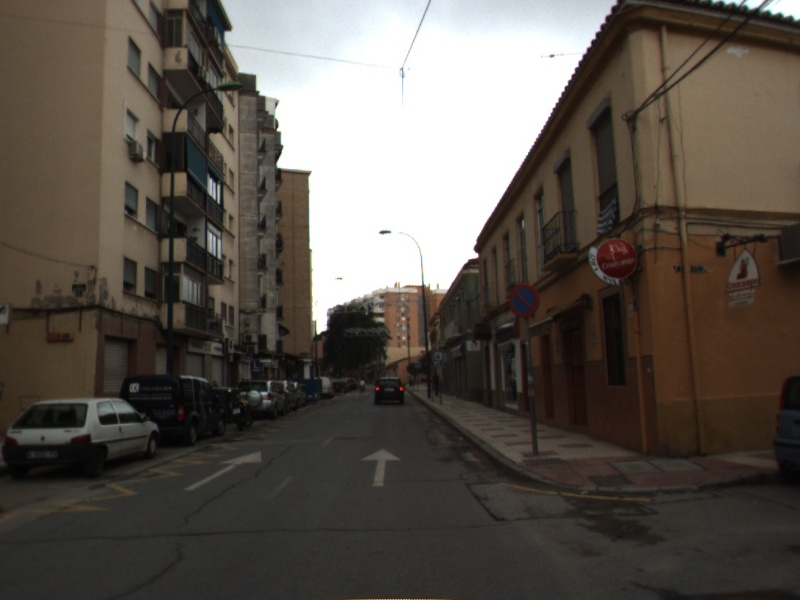STRAIGHT: (180, 449, 263, 493), (358, 446, 403, 488)
